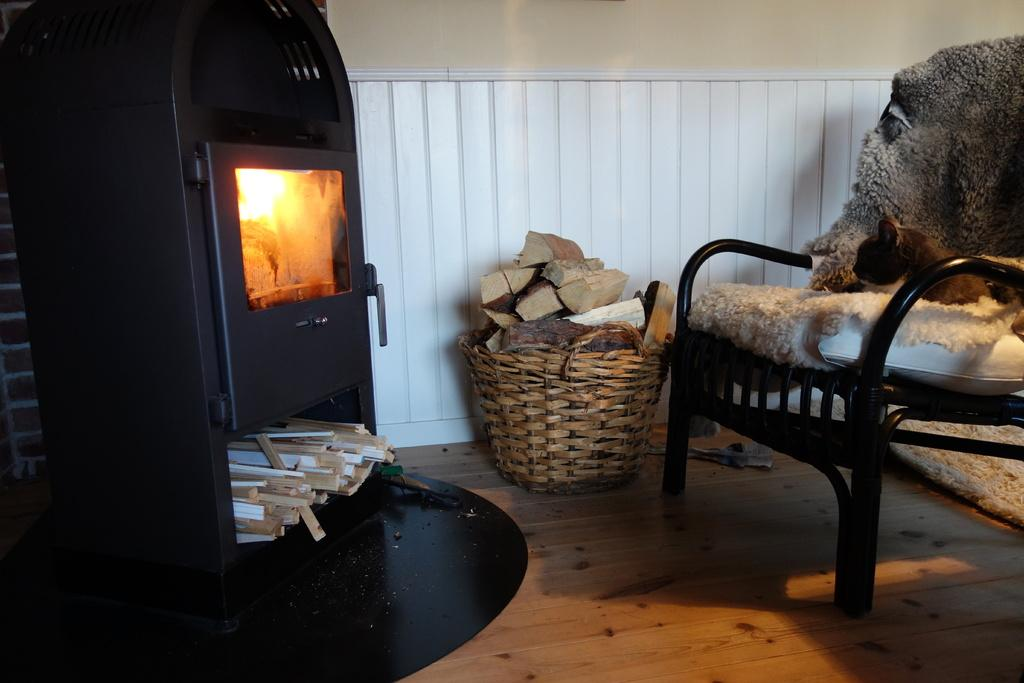Fire: (236, 159, 344, 306)
